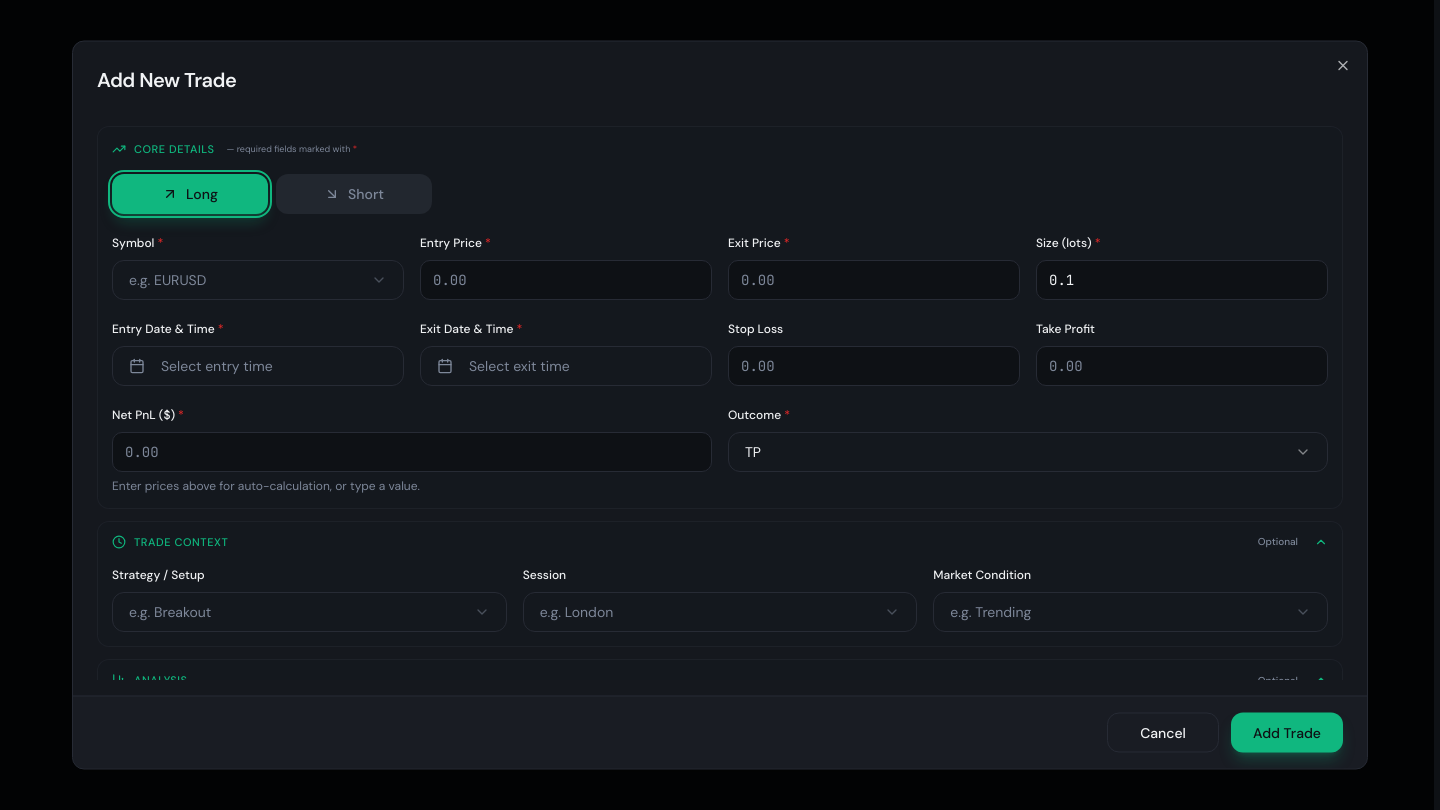
Test: AddTradeModal - UX Enhancements › shows PnL helper text for auto-calculation
Step 1. Type "1.1000" into the number field with placeholder "0.00" below "Entry Price" → (566, 279), box top-left (420, 259), bottom-right (712, 299)
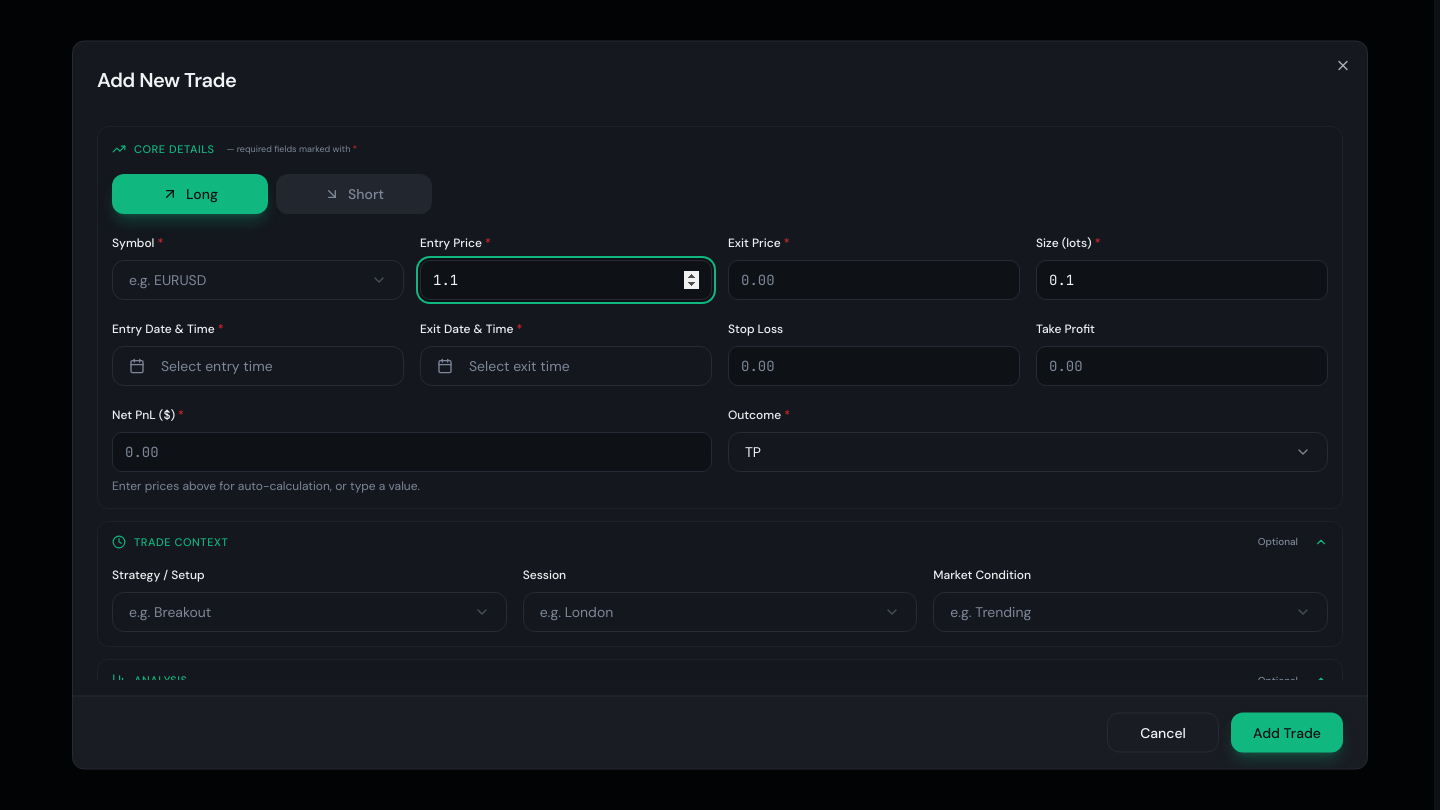
Step 2. Type "1.1050" into the number field with placeholder "0.00" below "Exit Price" → (874, 279), box top-left (728, 259), bottom-right (1020, 299)
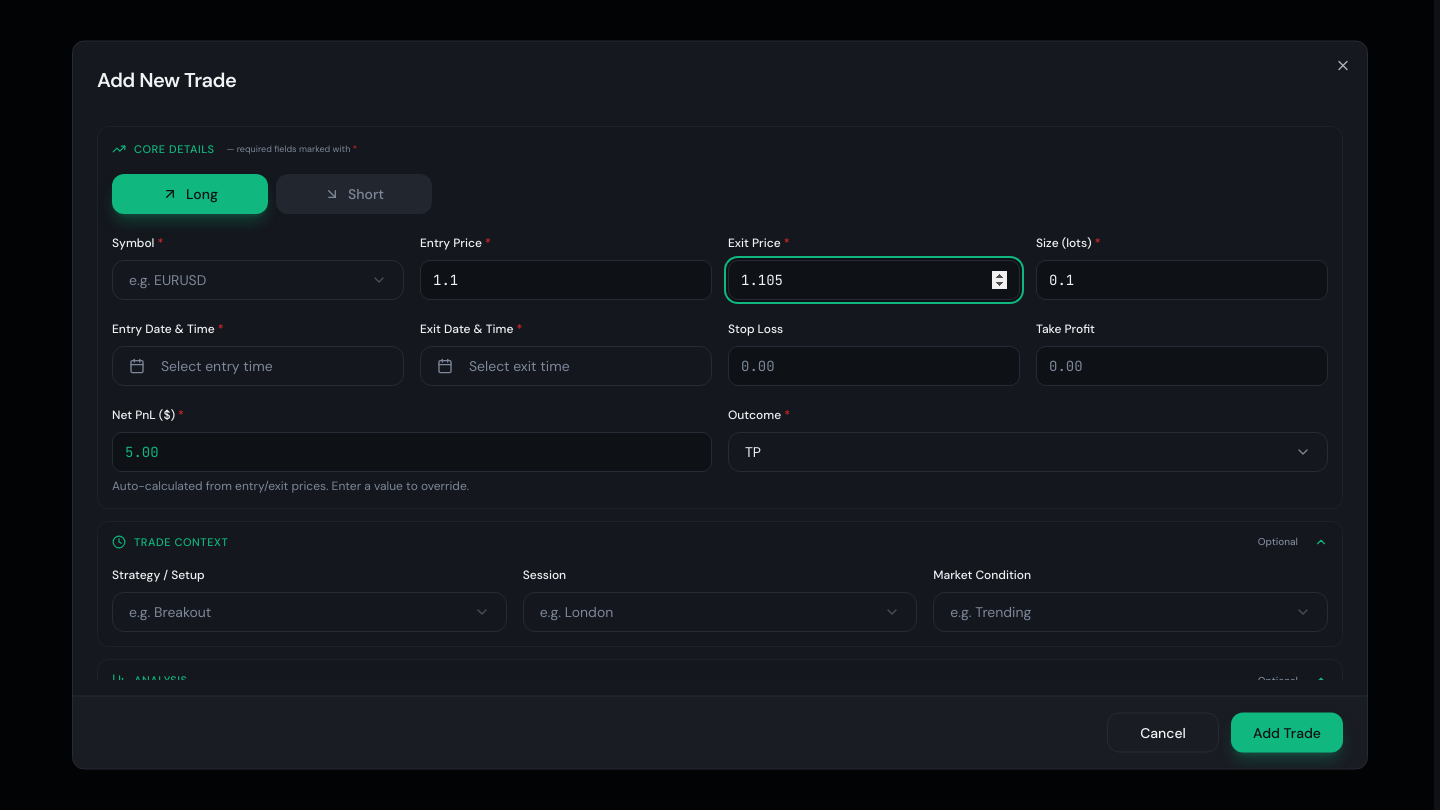
expect the text "Auto-calculated from entry/exit prices" is shown: met, box top-left (112, 477), bottom-right (469, 493)
